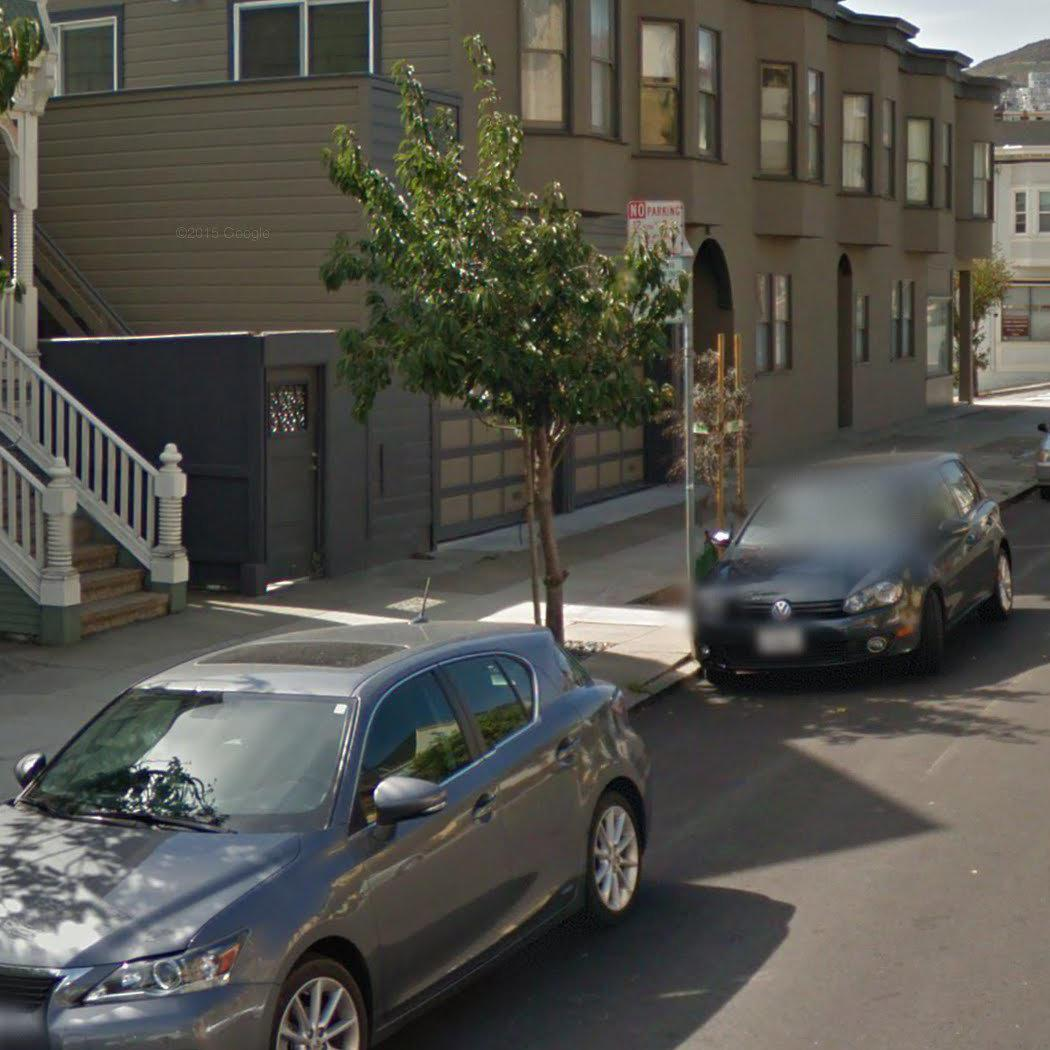No Parking: (623, 199, 688, 260)
